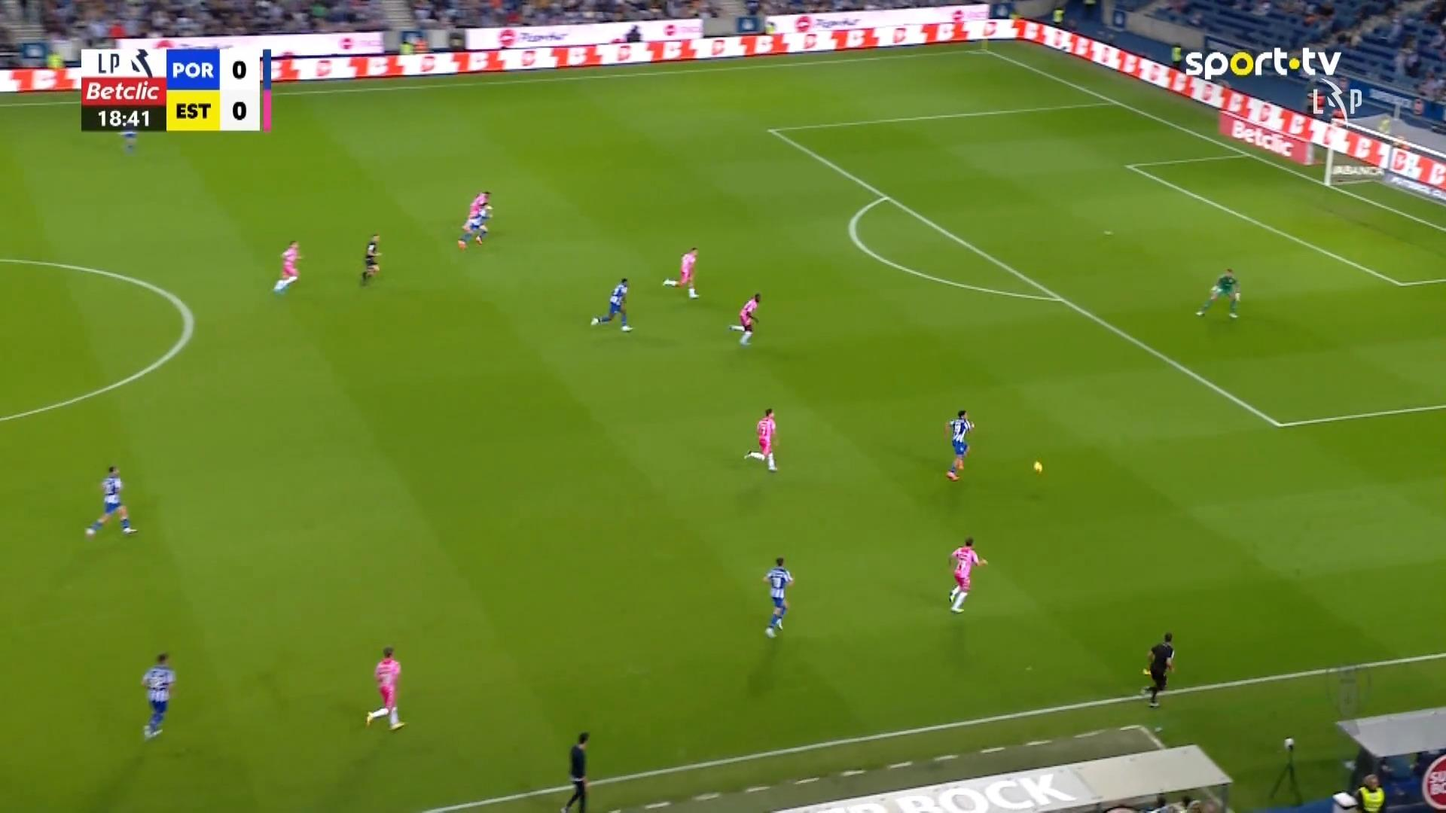ball: (1033, 460, 1042, 472), (590, 316, 598, 325)
player: (84, 464, 138, 537), (365, 645, 406, 730), (947, 536, 988, 613), (140, 652, 175, 739), (762, 556, 794, 638), (590, 277, 633, 332), (743, 407, 779, 471), (1195, 267, 1240, 318), (456, 190, 493, 250), (944, 409, 975, 480), (662, 246, 700, 299), (730, 291, 761, 345), (273, 239, 302, 293), (118, 114, 139, 154)
referee: (1139, 632, 1175, 708), (560, 731, 590, 811), (361, 233, 382, 285)
